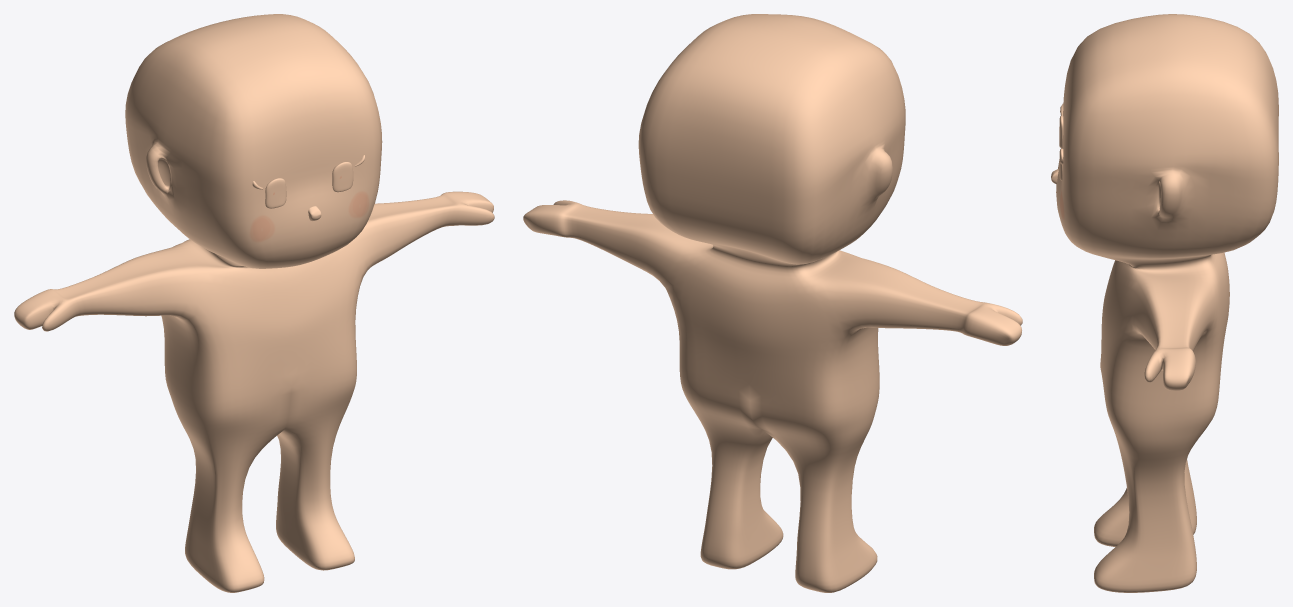
The model's file is chica1_basemodel.obj.
The picture shows the model from 3 angles, left to right: view 1: azimuth 30°, elevation 25°; view 2: azimuth 150°, elevation 25°; view 3: azimuth 270°, elevation 25°; orthographic projection. The views are drawn at different scales.
Parts seen in each view (by area): view 1: Cuerpo; view 2: Cuerpo; view 3: Cuerpo.
Boxes of the visible parts, x1,y1,x2,y2 form: Cuerpo: (14,14,494,592); Cuerpo: (523,14,1022,592); Cuerpo: (1056,14,1278,592).
Size of the model in its own units: 2.02 by 2.14 by 0.8355.
1 material, 1 textured.
